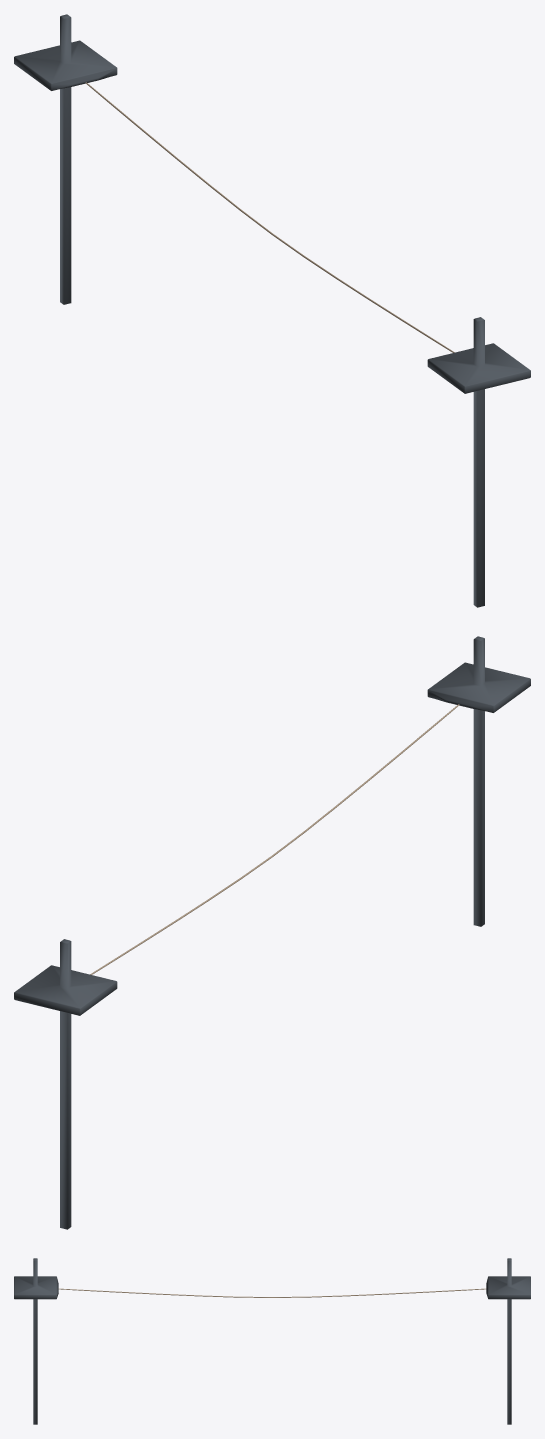
Rendered from tightrope.fbx.
The picture shows the model from 3 angles, top to bottom: view 1: azimuth 30°, elevation 25°; view 2: azimuth 150°, elevation 25°; view 3: azimuth 270°, elevation 25°; orthographic projection. The views are drawn at different scales.
Parts seen in each view (by area): view 1: Post, Rope; view 2: Post, Rope; view 3: Post, Rope.
Boxes of the visible parts, left/top/right/bottom form: Post: left=14, top=14, right=530, bottom=607; Rope: left=85, top=82, right=454, bottom=352; Post: left=14, top=636, right=530, bottom=1229; Rope: left=90, top=704, right=459, bottom=974; Post: left=14, top=1258, right=530, bottom=1424; Rope: left=59, top=1288, right=485, bottom=1297.
Bounding box in the file's own units: 1163 × 4774 × 13618.
